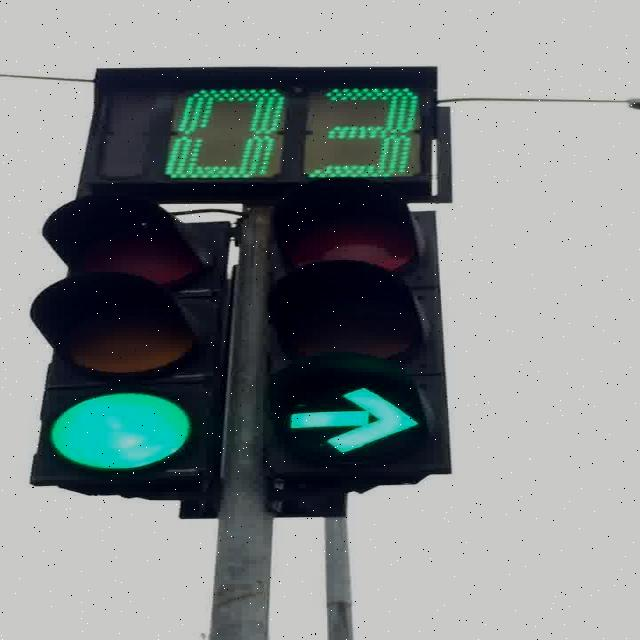green_light: (27, 189, 232, 486), (260, 179, 450, 475)
